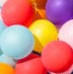Balloon: (1, 24, 35, 60), (42, 41, 73, 73), (1, 1, 35, 27), (45, 1, 73, 24)
